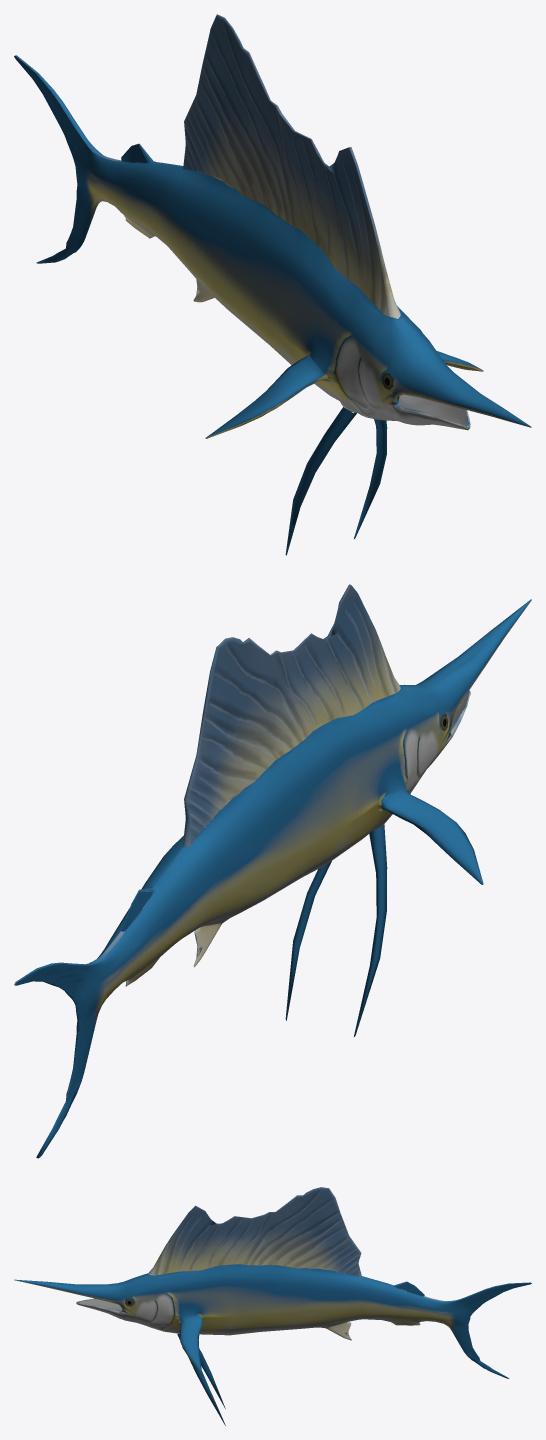
Rendered from Espadon.glb.
The picture shows the model from 3 angles, top to bottom: view 1: azimuth 30°, elevation 25°; view 2: azimuth 150°, elevation 25°; view 3: azimuth 270°, elevation 25°; orthographic projection. The views are drawn at different scales.
Parts seen in each view (by area): view 1: Espadon; view 2: Espadon; view 3: Espadon.
Boxes of the visible parts, bbox=[...] form: Espadon: bbox=[14, 14, 531, 555]; Espadon: bbox=[14, 584, 531, 1158]; Espadon: bbox=[14, 1187, 531, 1425].
Bounding box in the file's own units: 1.38 × 2.18 × 4.44.
Materials: 1 (1 with a texture image).
